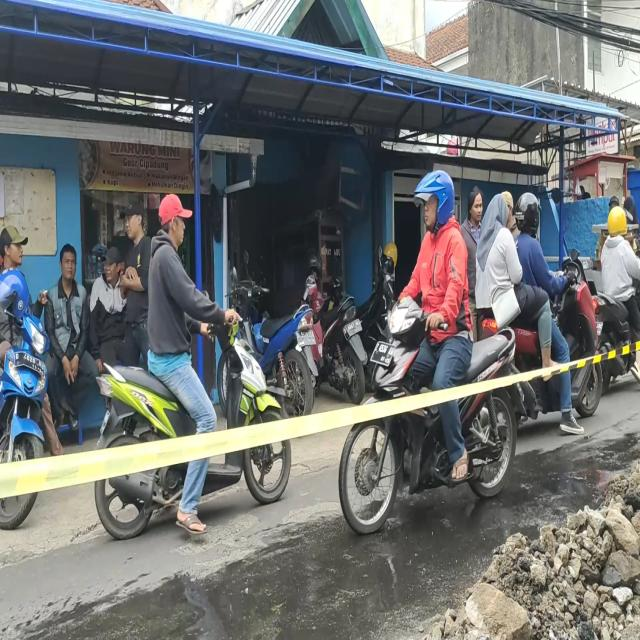helmet: (418, 173, 453, 225), (516, 188, 538, 232), (608, 210, 630, 240)
no-helmet: (158, 200, 187, 248), (486, 196, 509, 228)
